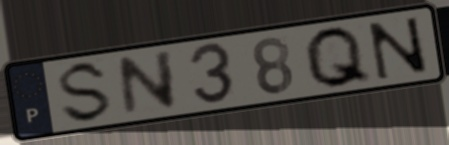3: (184, 39, 238, 109)
8: (250, 35, 296, 96)
N: (115, 47, 181, 120), (364, 14, 434, 82)
Q: (301, 24, 376, 91)
S: (57, 58, 115, 126)
